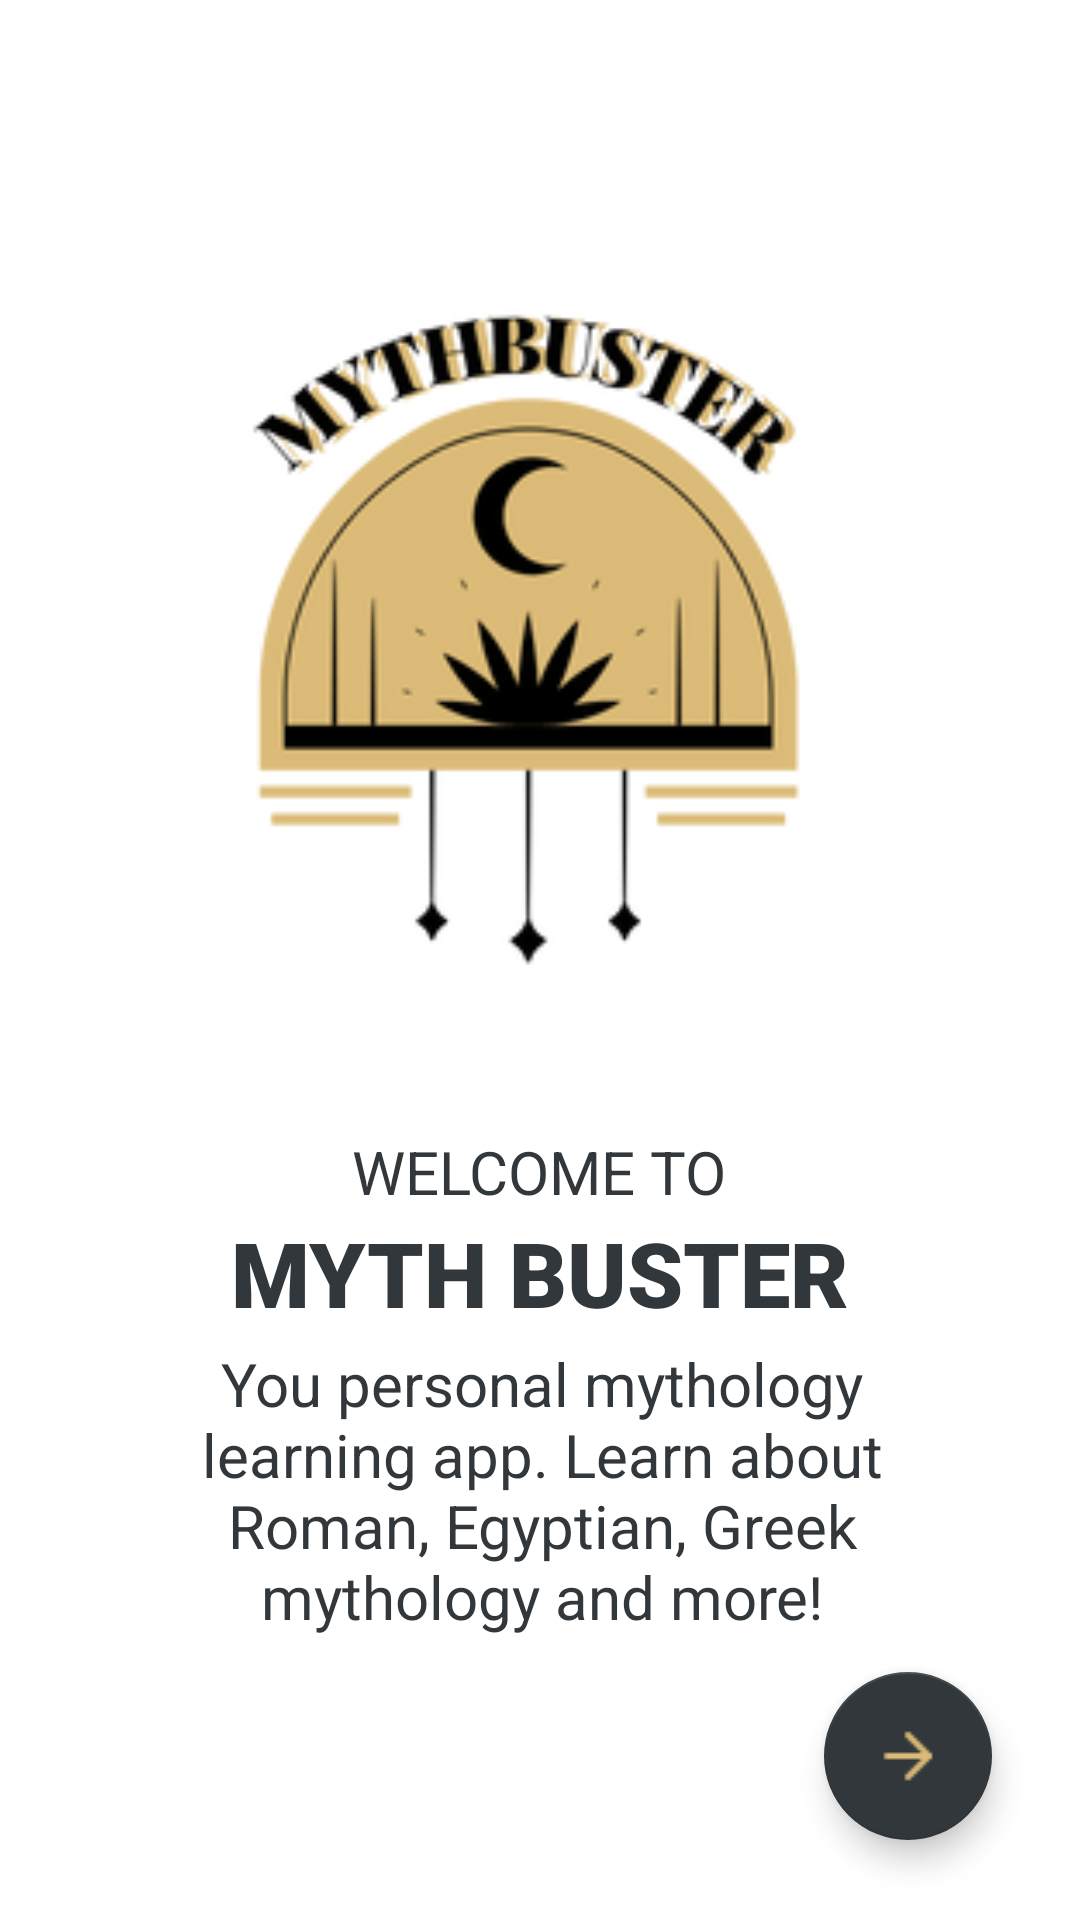

Screen size 1080px x 1920px. Icon name, then its center in pixels as (x=x, y=y):
arrowright: (x=908, y=1756)
